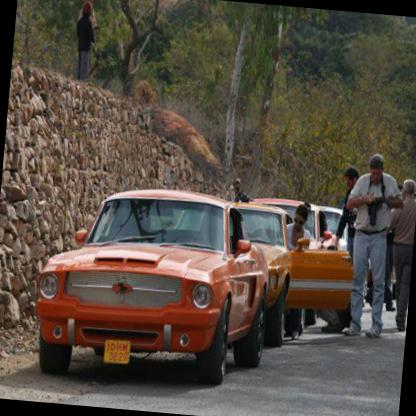car: (34, 180, 276, 396)
